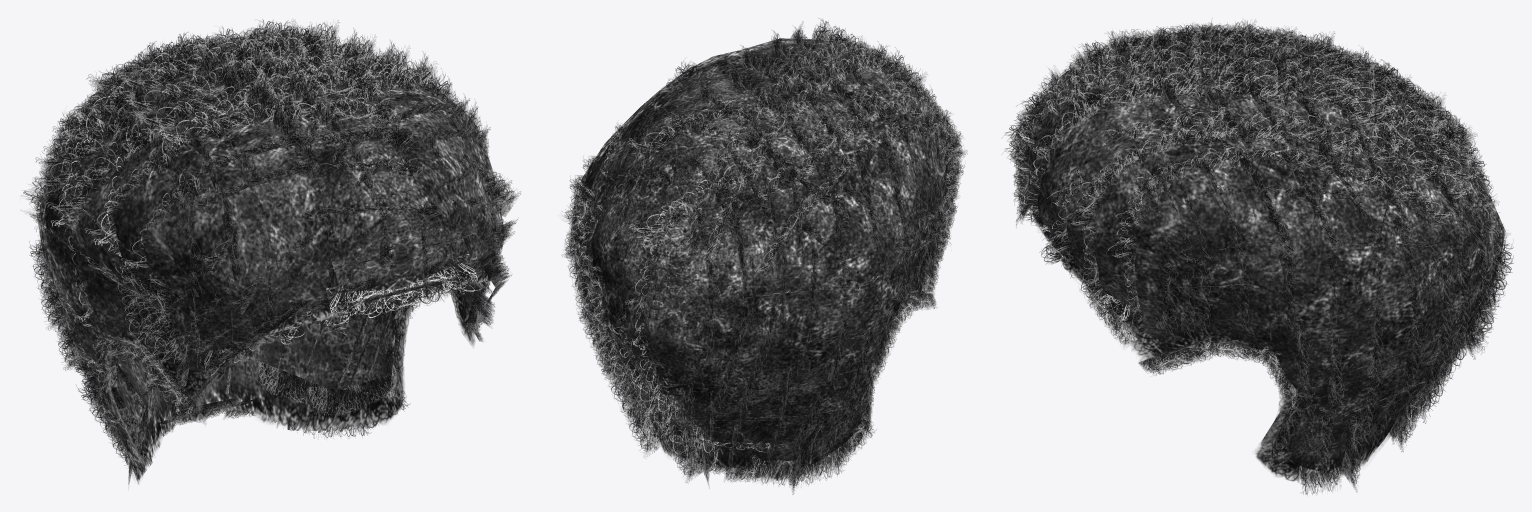
Rendered from hair_afro01.gltf.
3 views of the same model, side by side, from view 1: azimuth 30°, elevation 25°; view 2: azimuth 150°, elevation 25°; view 3: azimuth 270°, elevation 25° (orthographic). The views are drawn at different scales.
Parts seen in each view (by area): view 1: hair_afro01; view 2: hair_afro01; view 3: hair_afro01.
Part boxes in pixels (<box>): hair_afro01: <box>20,18,520,484</box>; hair_afro01: <box>557,18,967,494</box>; hair_afro01: <box>1001,18,1513,494</box>.
Size of the model in its own units: 0.1989 by 0.2139 by 0.2435.
Materials: 1 (1 with a texture image).
